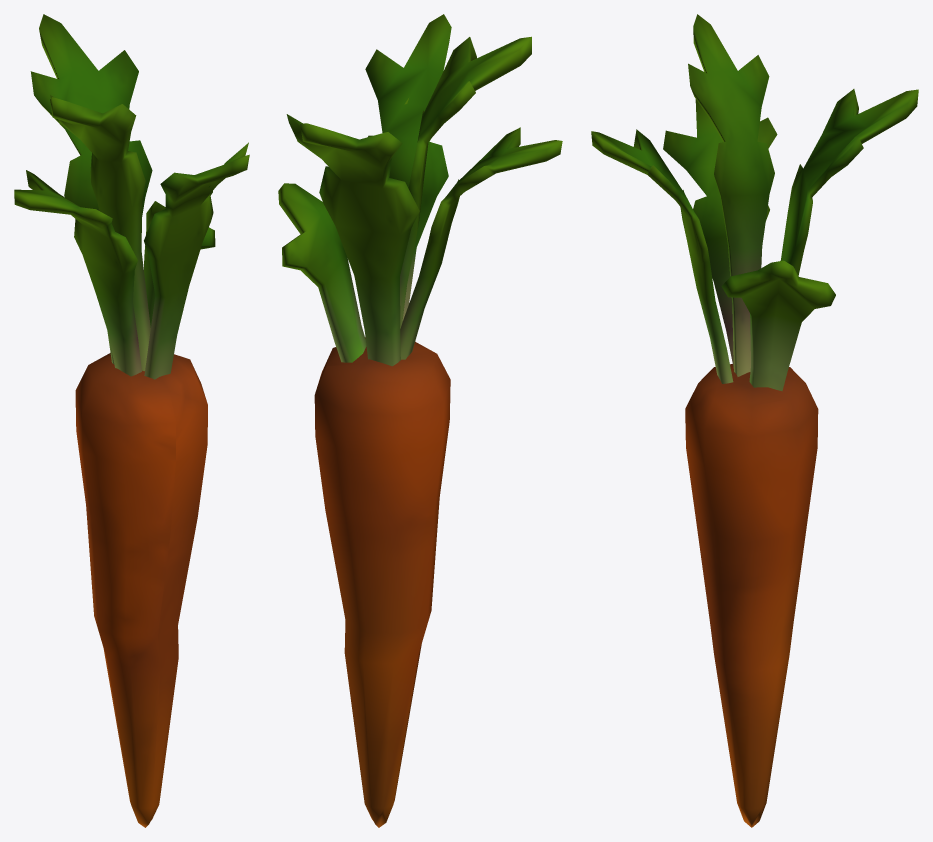
File: carrot.glb
3 renders of one model, left to right at view 1: azimuth 30°, elevation 25°; view 2: azimuth 150°, elevation 25°; view 3: azimuth 270°, elevation 25°, orthographic. The views are drawn at different scales.
Visible parts, largest first — view 1: Carrot; view 2: Carrot; view 3: Carrot.
Boxes of the visible parts, <box> form: Carrot: <box>14,14,249,827</box>; Carrot: <box>278,14,562,827</box>; Carrot: <box>591,14,918,827</box>.
Bounding box in the file's own units: 0.1799 × 0.5658 × 0.222.
1 material, 1 textured.
